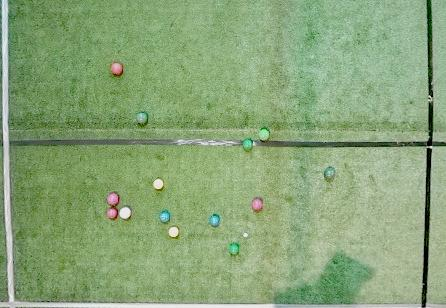blue: (209, 214, 220, 227), (159, 211, 170, 223)
green: (136, 112, 148, 125), (258, 129, 270, 141), (324, 167, 335, 178), (242, 139, 253, 150), (229, 244, 239, 255)
red: (111, 62, 123, 75), (106, 193, 119, 205), (119, 206, 131, 219), (251, 198, 263, 211), (106, 208, 118, 219)
vline: (420, 1, 446, 307), (0, 1, 19, 307)
white: (243, 233, 248, 237)
yellow: (168, 227, 179, 237), (153, 179, 163, 189)
